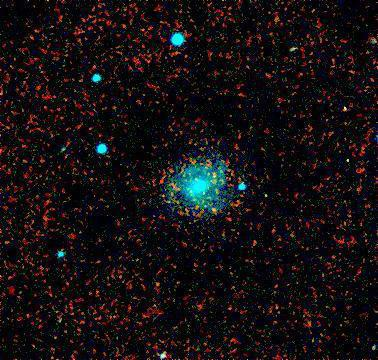star: (201, 192, 231, 222)
